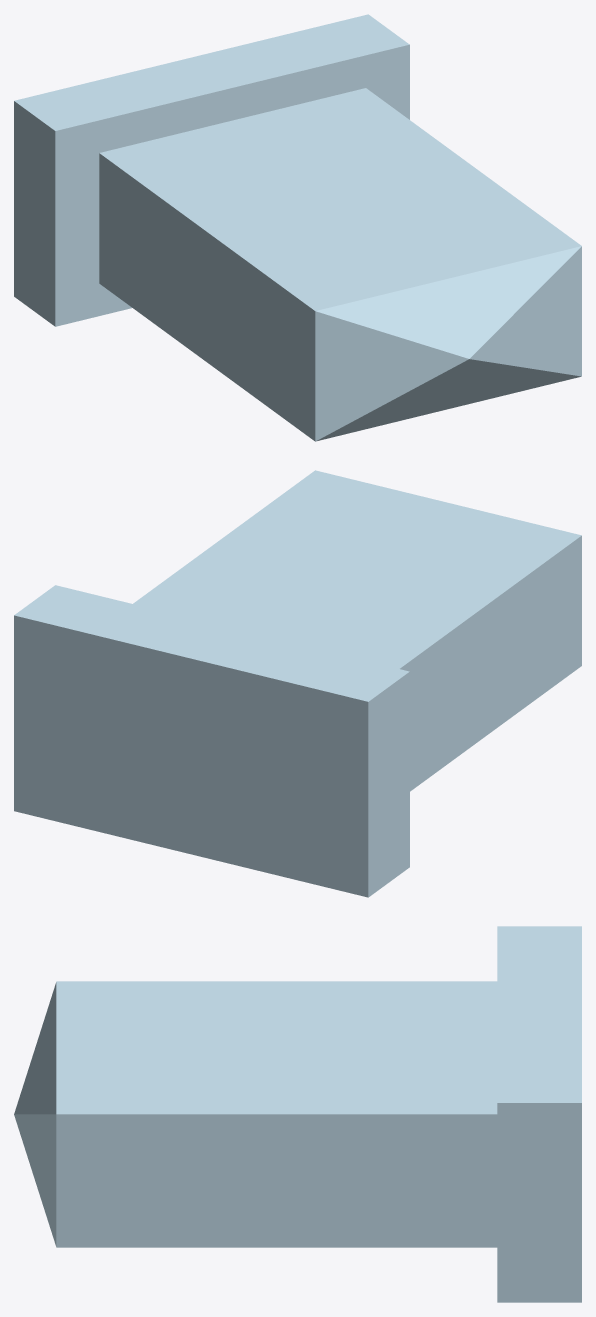
3 renders of one model, top to bottom at view 1: azimuth 30°, elevation 25°; view 2: azimuth 150°, elevation 25°; view 3: azimuth 270°, elevation 25°, orthographic. The views are drawn at different scales.
Parts seen in each view (by area): view 1: PA-127-F_LOD0; view 2: PA-127-F_LOD0; view 3: PA-127-F_LOD0.
Part boxes in pixels (x1,y1,x2,y2): PA-127-F_LOD0: (14,14,581,441); PA-127-F_LOD0: (14,470,581,897); PA-127-F_LOD0: (14,926,581,1302).
Bounding box in the file's own units: 86.63 × 45.72 × 118.
